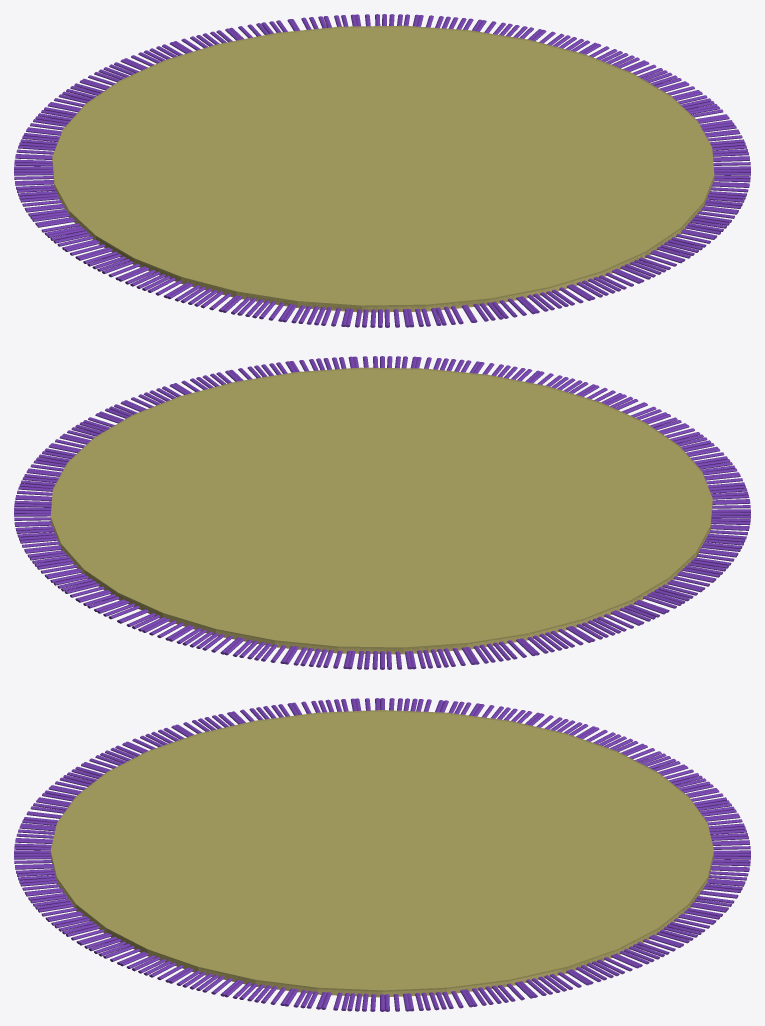
The model's file is Carpet 5.fbx.
The picture shows the model from 3 angles, top to bottom: view 1: azimuth 30°, elevation 25°; view 2: azimuth 150°, elevation 25°; view 3: azimuth 270°, elevation 25°; orthographic projection.
Parts seen in each view (by area): view 1: main.001, Cylinder.078, main; view 2: main.001, Cylinder.078, main; view 3: main.001, Cylinder.078, main.
Part boxes in pixels (x1,y1,x2,y2): main.001: (52, 25, 714, 310); Cylinder.078: (14, 14, 750, 327); main: (52, 160, 714, 312); main.001: (50, 367, 712, 652); Cylinder.078: (14, 356, 750, 669); main: (50, 503, 712, 654); main.001: (50, 710, 713, 995); Cylinder.078: (14, 698, 750, 1011); main: (51, 853, 713, 997).
Size of the model in its own units: 500 by 5.26 by 500.
